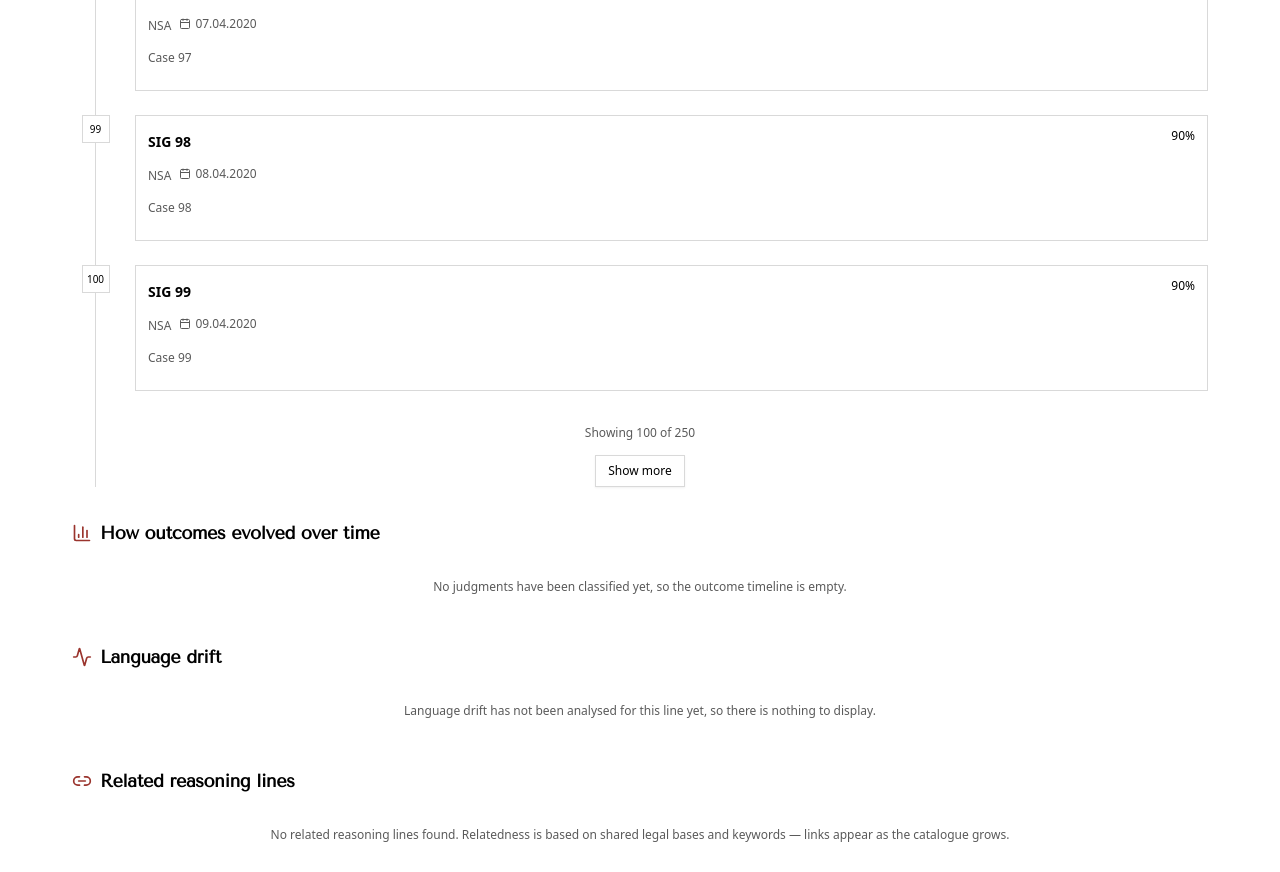
Scenario: reasoning line member timeline pagination › reveals members 100 at a time and hides the button when exhausted
(page scrolled)
Expected: the text "Showing 100 of 250" is shown, [585,419,695,447]
Click the button "Show more": (640, 471) [595,455,685,487]
(page scrolled)
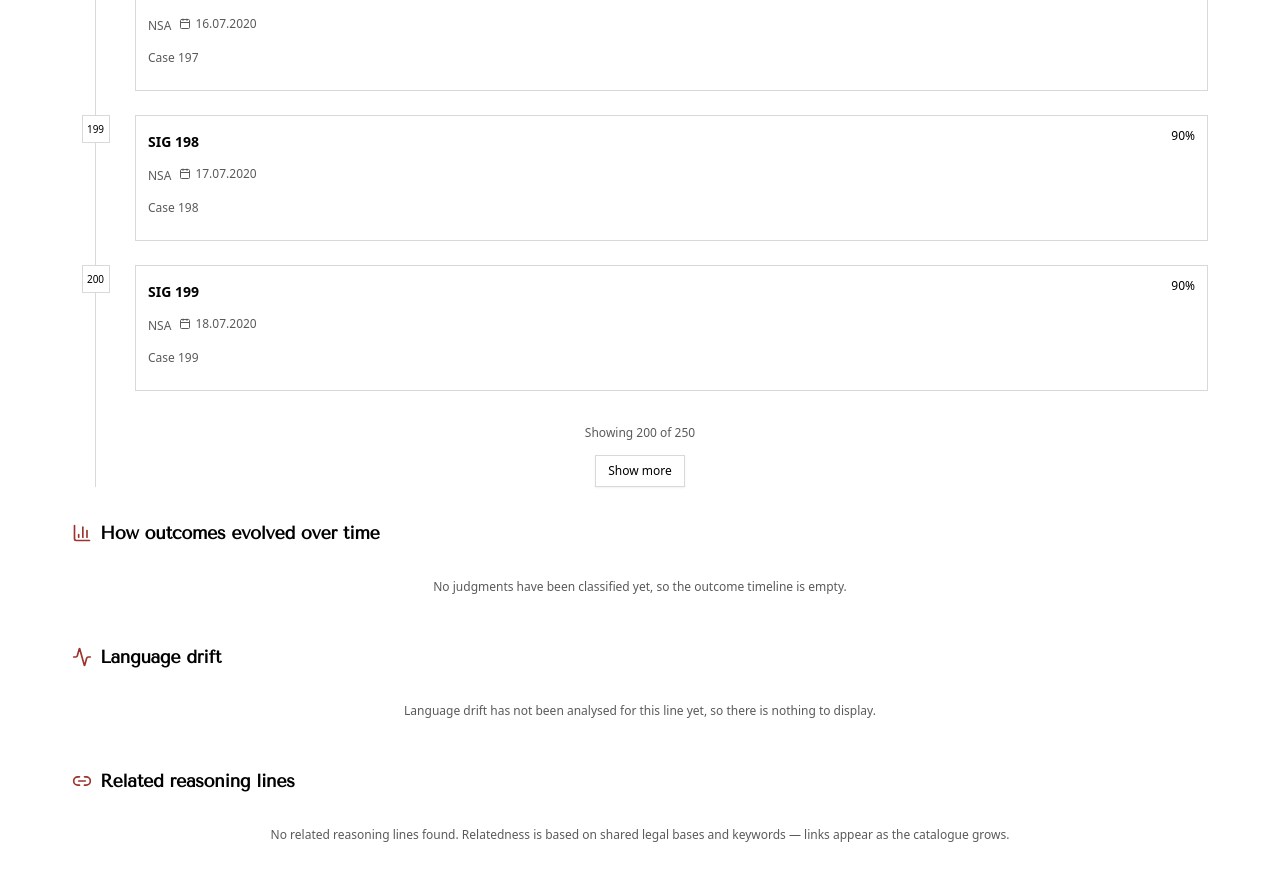
Expected: the text "Showing 200 of 250" is shown, [585,419,695,447]
Click the button "Show more": (640, 471) [595,455,685,487]
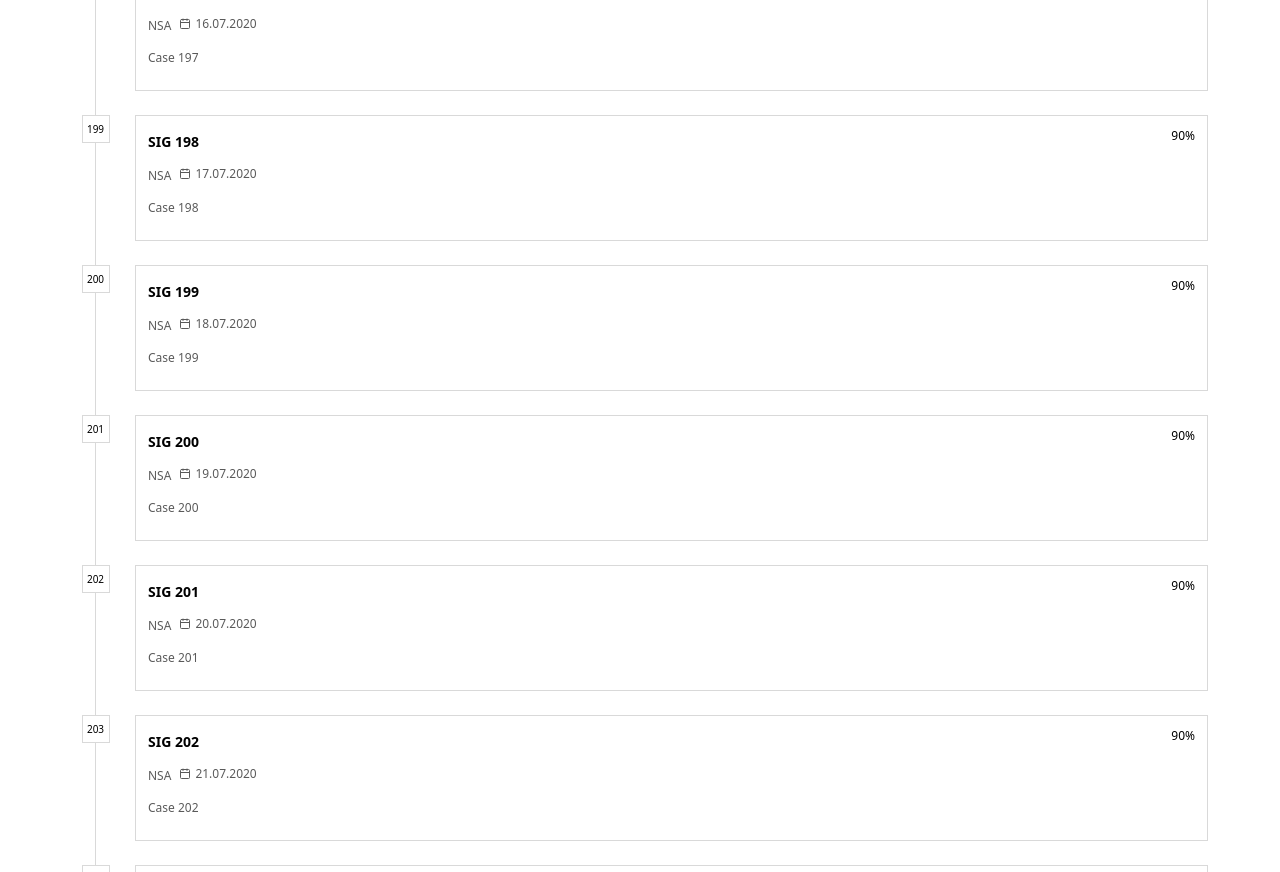
Expected: the button "Show more" is gone
